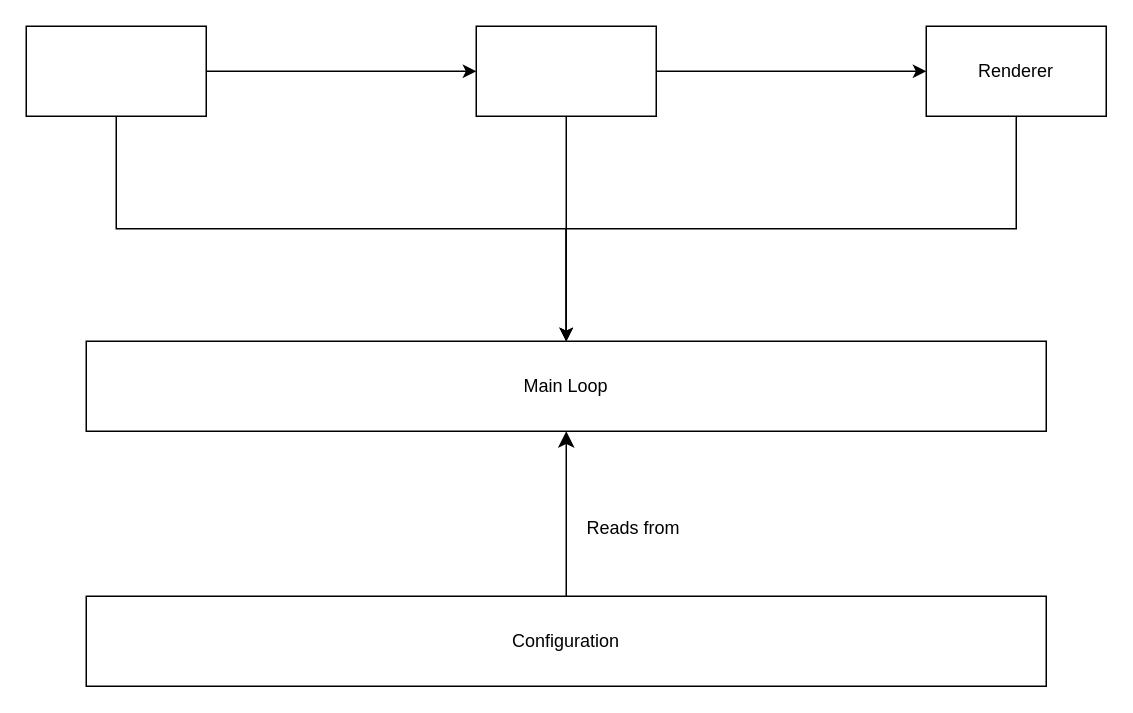
Some shapes in this 1133 by 713 pixel diagram are drawn without their labels. The box of each missing label's shape, as (x1, y1, x2, y2) in pixels:
Biome: (25, 25, 206, 116)
Grid: (475, 25, 656, 116)
